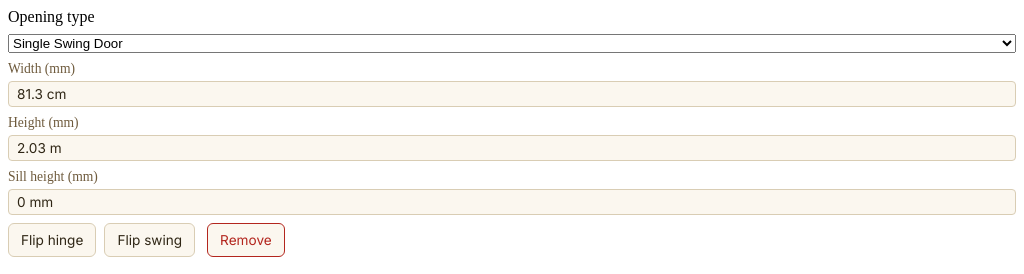
Test: OpeningInspector remove and options › aborts the removal and restores the Remove control when Cancel is clicked
Click the button "Remove".
click(246, 240)  # box [207,223,285,257]
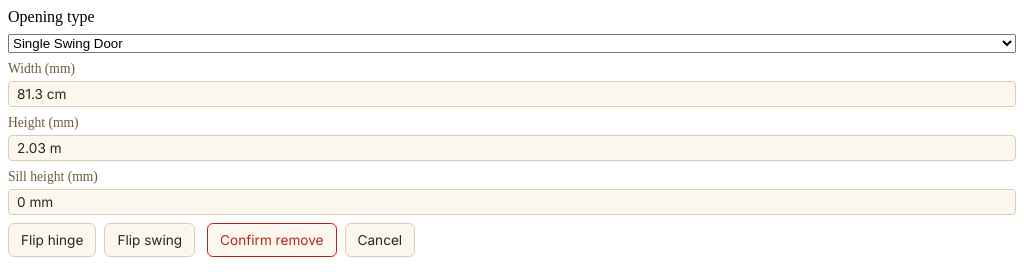
Click the button "Cancel".
click(380, 240)  # box [344,223,415,257]
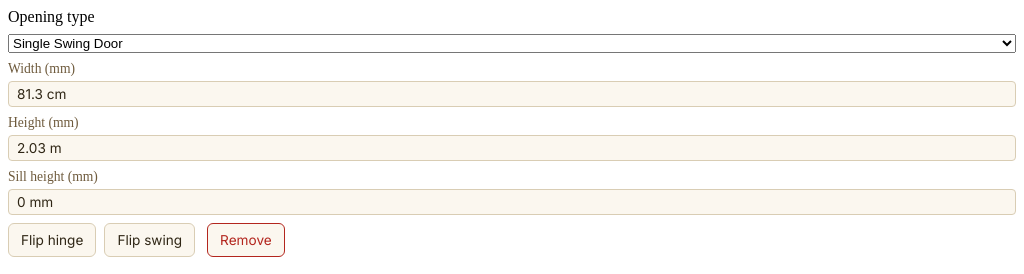
expect the button "Remove" is shown: met, box [207,223,285,257]
expect the button "Confirm remove" is gone: met
